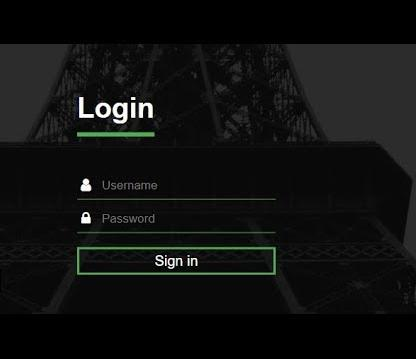button: (75, 244, 276, 277)
field_line: (75, 175, 277, 202), (74, 209, 276, 235)
